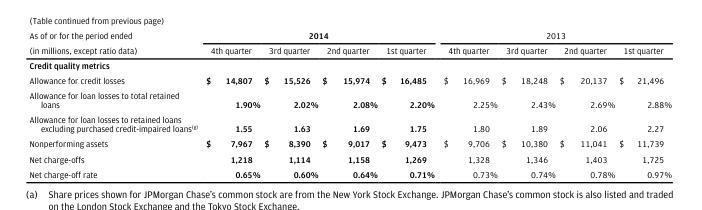table: (28, 29, 671, 178)
table column: (28, 29, 201, 178), (201, 29, 261, 178), (378, 29, 438, 178), (438, 29, 498, 178), (556, 29, 616, 178), (319, 29, 378, 178), (261, 29, 319, 178), (498, 29, 556, 178), (616, 29, 671, 178)
table column header: (28, 29, 671, 57)
table projected row header: (28, 57, 671, 72)
table row: (28, 87, 671, 111), (28, 111, 671, 135), (28, 42, 671, 57), (28, 57, 671, 72), (28, 72, 671, 87), (28, 135, 671, 150), (28, 150, 671, 165), (28, 29, 671, 42), (28, 165, 671, 178)
table spanning cell: (28, 29, 201, 57), (201, 29, 438, 42), (438, 29, 671, 42)
